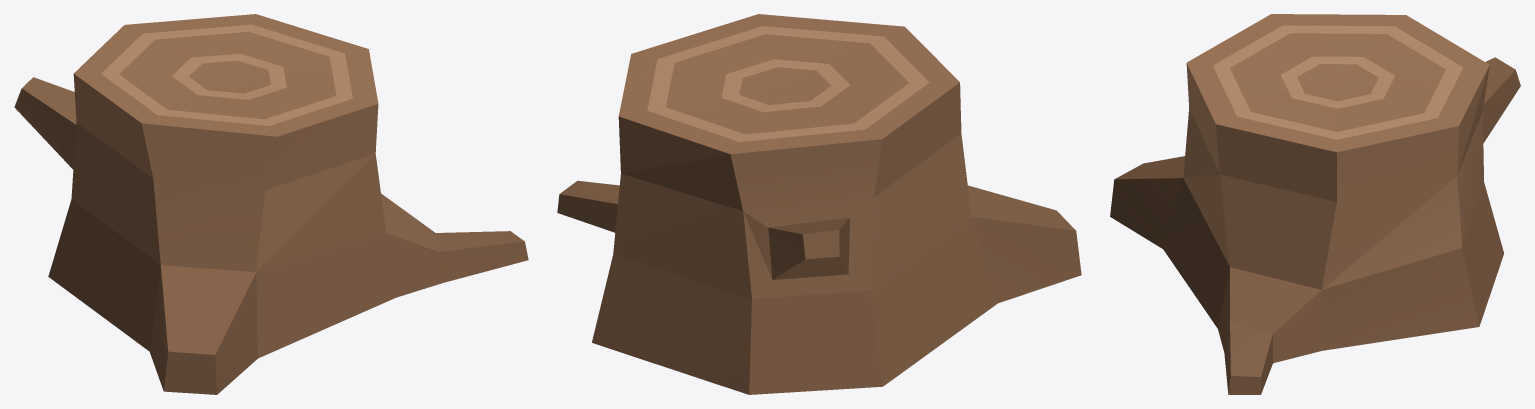
The model's file is bonfire_stump_3.fbx.
The picture shows the model from 3 angles, left to right: view 1: azimuth 30°, elevation 25°; view 2: azimuth 150°, elevation 25°; view 3: azimuth 270°, elevation 25°; orthographic projection. The views are drawn at different scales.
Parts seen in each view (by area): view 1: bonfire_stump_3; view 2: bonfire_stump_3; view 3: bonfire_stump_3.
Part boxes in pixels (x1,y1,x2,y2): bonfire_stump_3: (14,14,528,394); bonfire_stump_3: (557,14,1081,394); bonfire_stump_3: (1110,14,1520,394).
Size of the model in its own units: 69.6 by 34.15 by 61.74.
Materials: 1 (1 with a texture image).
